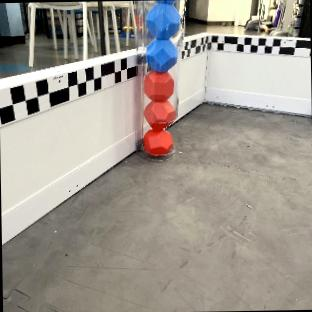V5_BLUE: (145, 2, 179, 37), (145, 38, 177, 70)
V5_RED: (144, 67, 174, 99), (143, 127, 172, 155), (144, 97, 174, 123)
